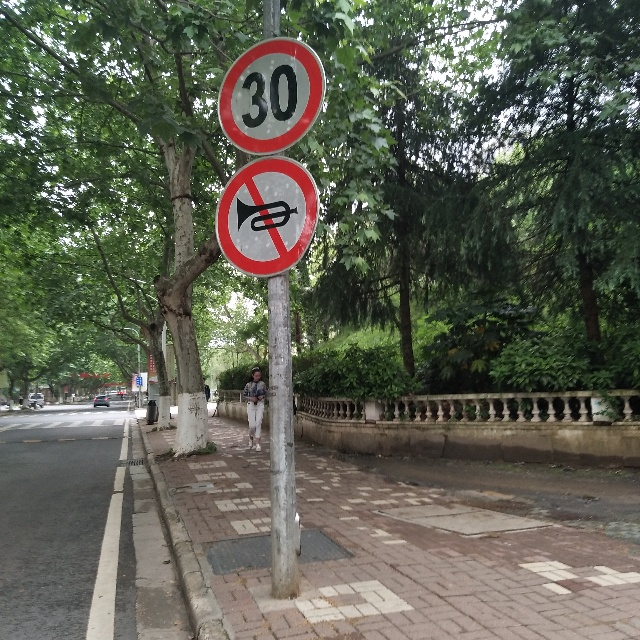nohonk: (211, 155, 320, 282)
